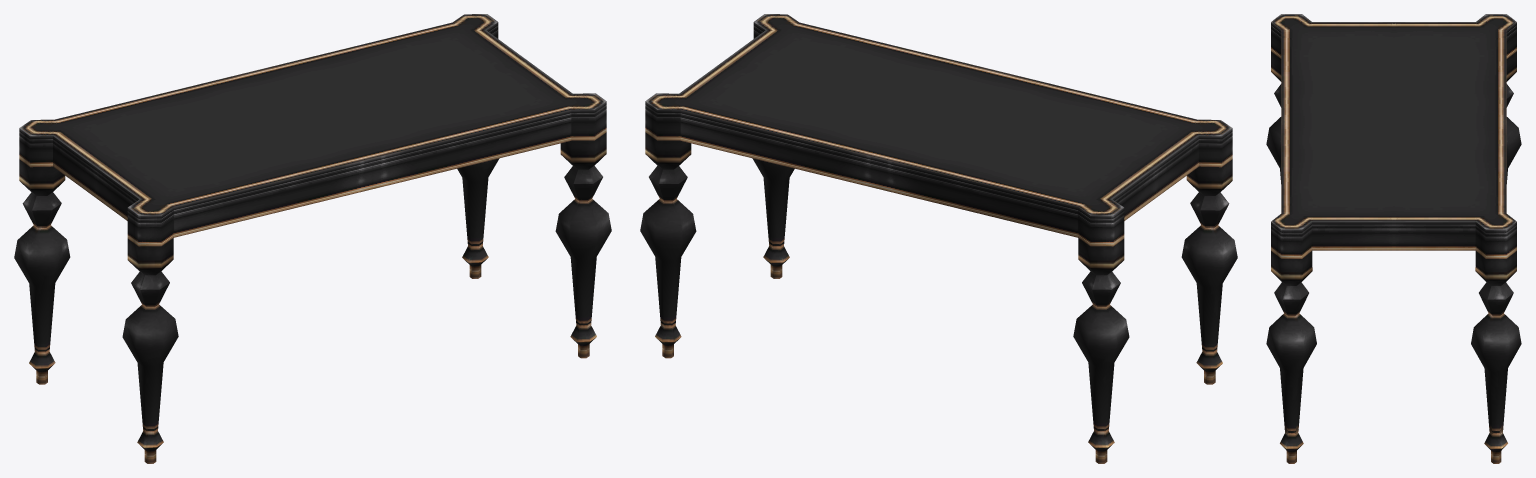
The model's file is furni_0200306.FBX.
The picture shows the model from 3 angles, left to right: view 1: azimuth 30°, elevation 25°; view 2: azimuth 150°, elevation 25°; view 3: azimuth 270°, elevation 25°; orthographic projection. The views are drawn at different scales.
Parts seen in each view (by area): view 1: furni_0200306; view 2: furni_0200306; view 3: furni_0200306.
Part boxes in pixels (left/top/right/bottom): furni_0200306: left=14, top=14, right=611, bottom=463; furni_0200306: left=640, top=14, right=1237, bottom=463; furni_0200306: left=1266, top=14, right=1521, bottom=463.
Size of the model in its own units: 156 by 79.93 by 76.94.
Materials: 1 (1 with a texture image).
